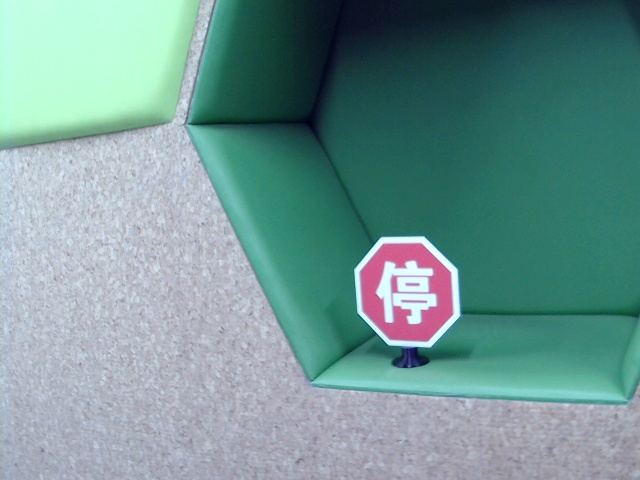stop: (377, 257, 438, 325)
